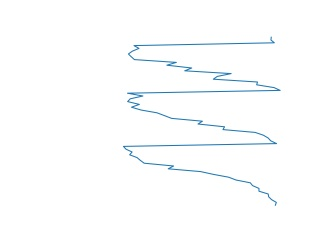distributaryMouthBar: (120, 36, 283, 208)
